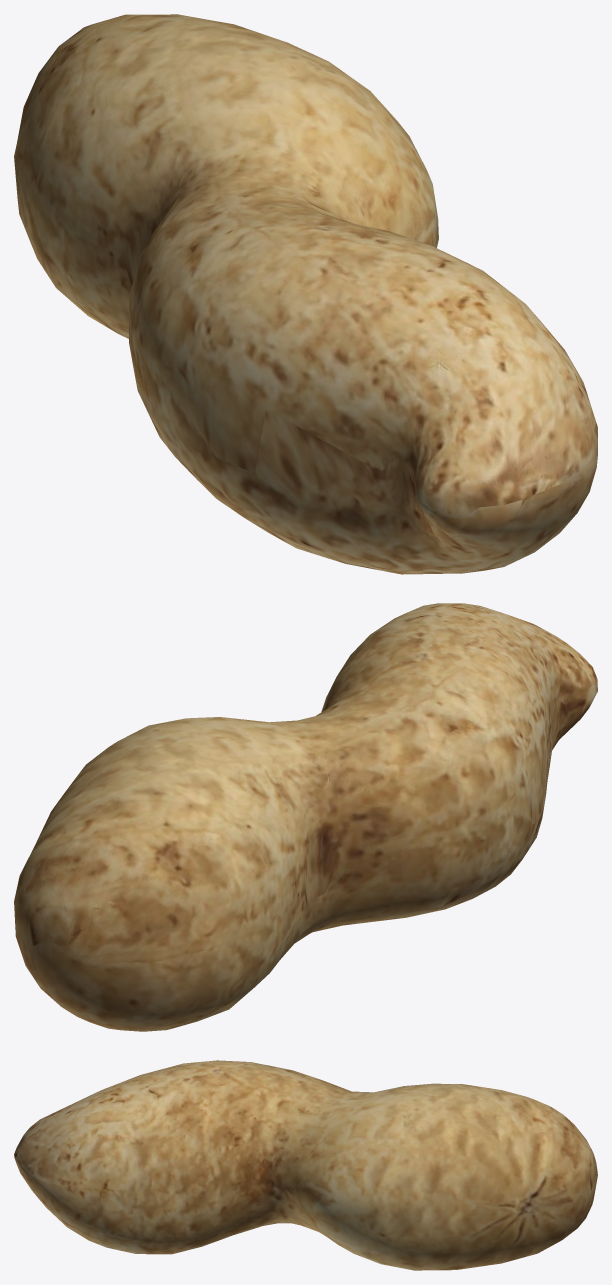
File: cage_peanut.glb
The picture shows the model from 3 angles, top to bottom: view 1: azimuth 30°, elevation 25°; view 2: azimuth 150°, elevation 25°; view 3: azimuth 270°, elevation 25°; orthographic projection. The views are drawn at different scales.
Parts seen in each view (by area): view 1: cage_peanut; view 2: cage_peanut; view 3: cage_peanut.
Boxes of the visible parts, x1,y1,x2,y2 form: cage_peanut: (14,14,597,574); cage_peanut: (14,603,597,1031); cage_peanut: (14,1060,597,1270).
Bounding box in the file's own units: 1.02 × 0.7892 × 2.4.
Materials: 1 (1 with a texture image).
